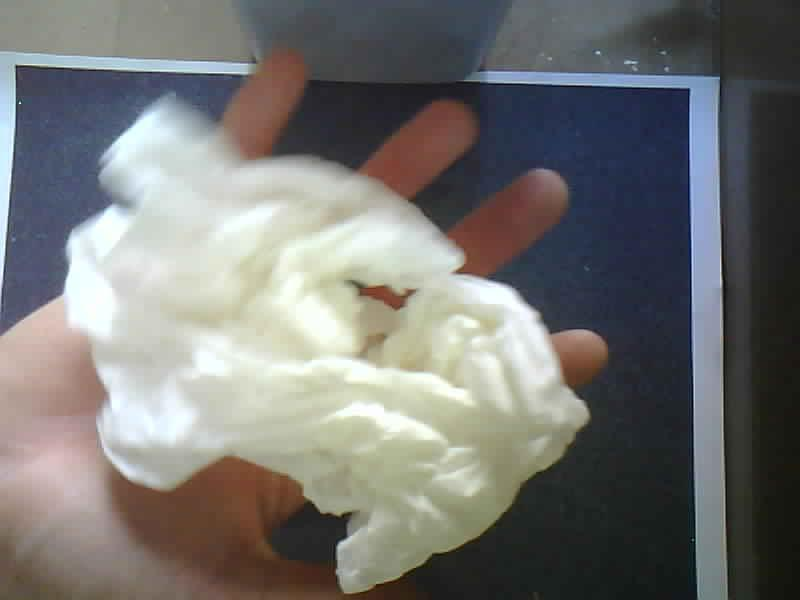paper: (63, 102, 589, 593)
